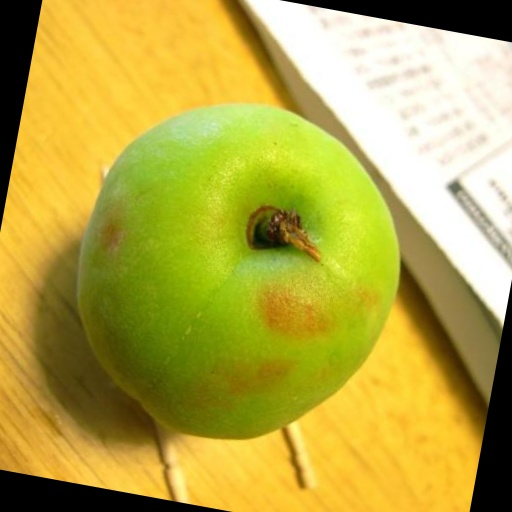fruit: (301, 126, 487, 479)
